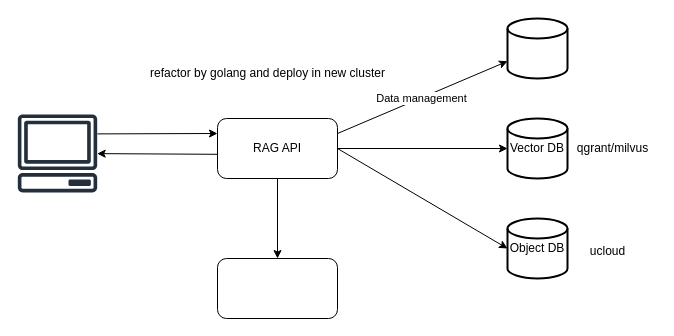
Image size: 674x336. Some labels were removed from this diagram. Here are the shapes that lost their labels. From the top down, the box of each, then its label:
(506, 17, 568, 79): mysql
(216, 258, 338, 318): Inference API
